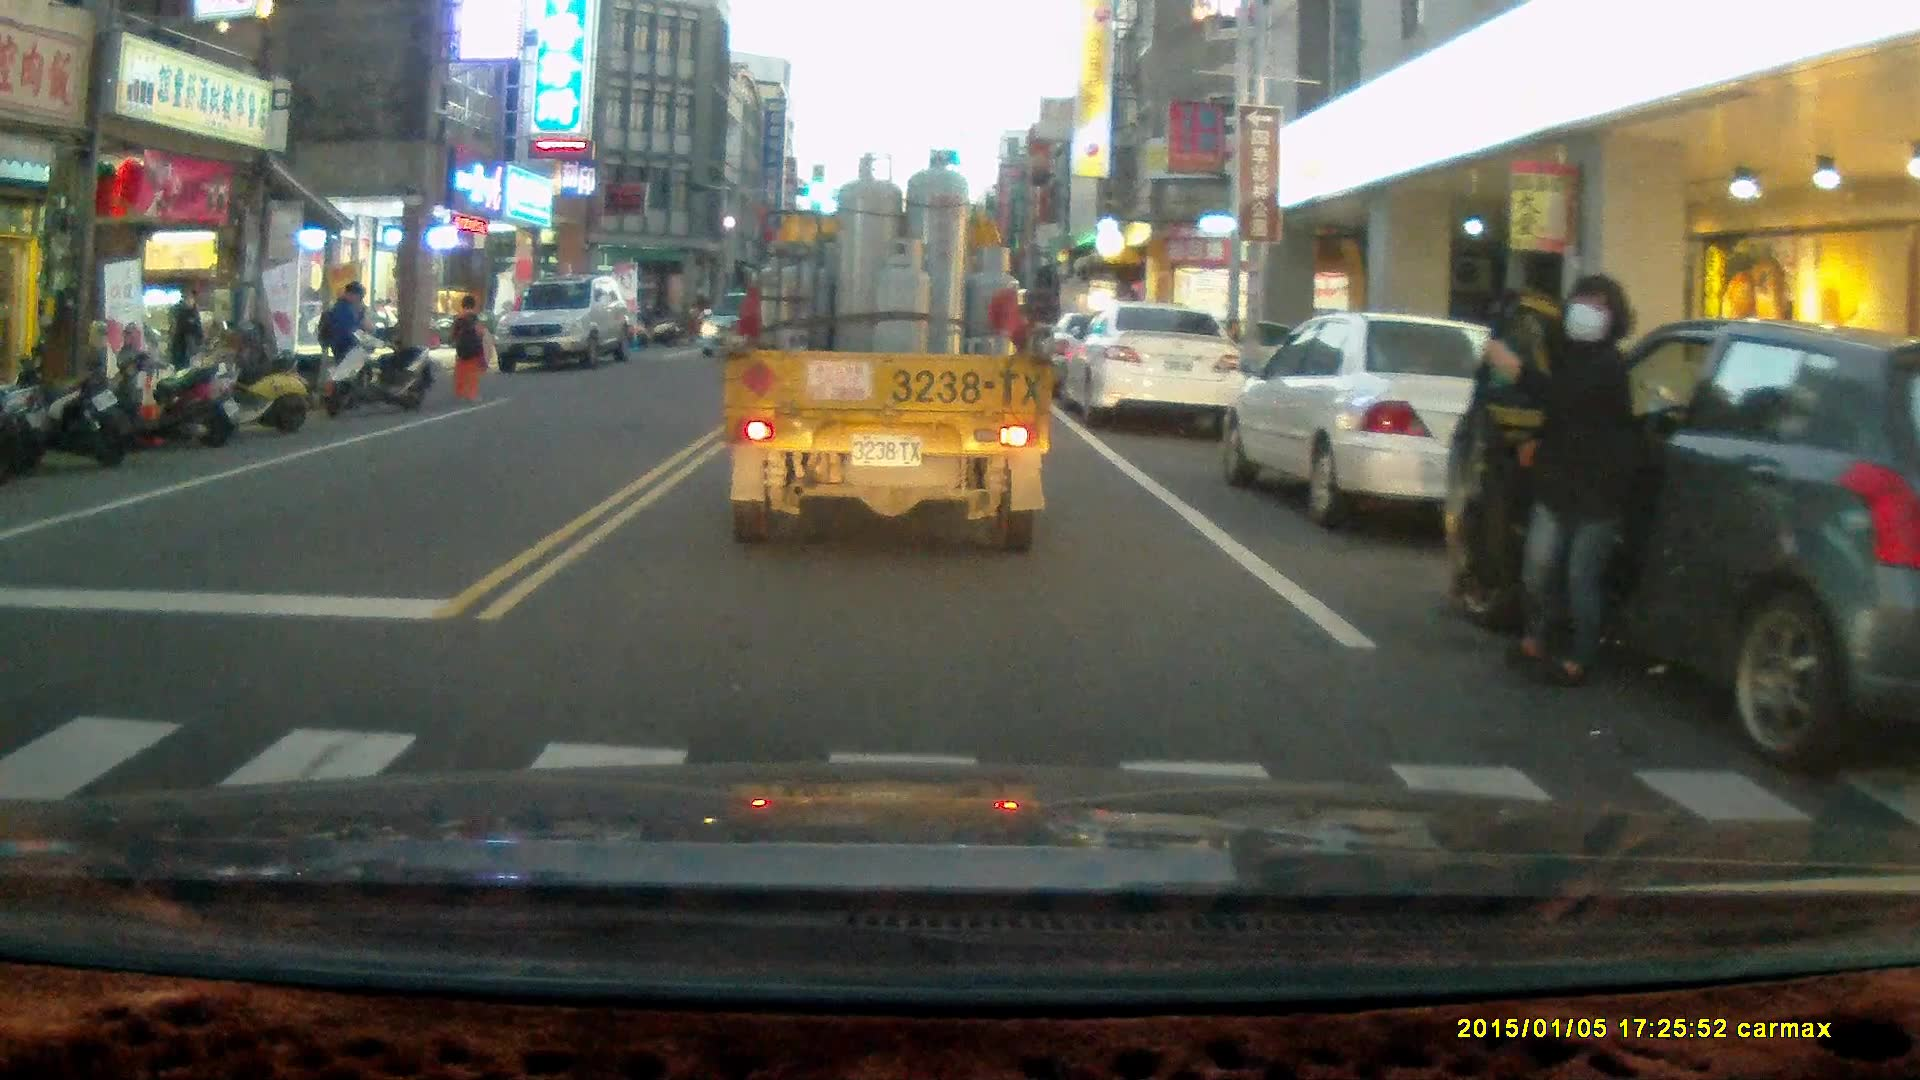pedestrian: (1478, 271, 1641, 695), (316, 279, 366, 403), (168, 285, 209, 413), (449, 292, 487, 402)
vehicle: (1448, 315, 1920, 777), (719, 144, 1061, 556), (1222, 315, 1581, 529), (1068, 304, 1255, 428), (496, 280, 635, 374)
